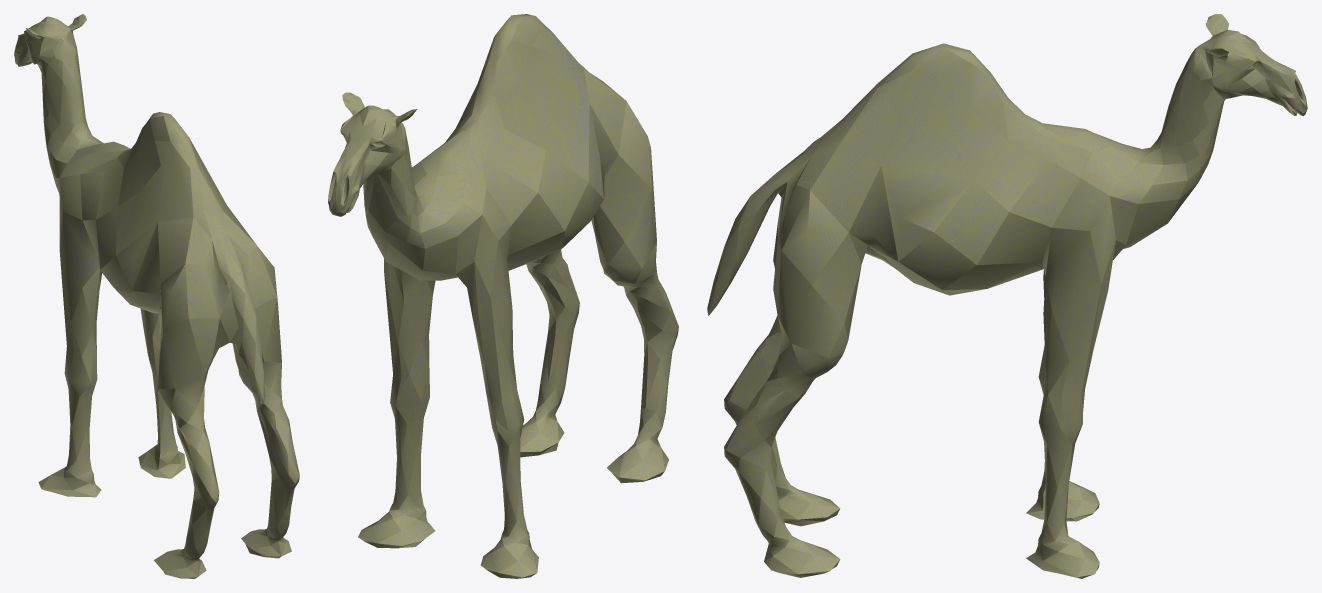
File: camel.dae
The picture shows the model from 3 angles, left to right: view 1: azimuth 30°, elevation 25°; view 2: azimuth 150°, elevation 25°; view 3: azimuth 270°, elevation 25°; orthographic projection. The views are drawn at different scales.
Parts seen in each view (by area): view 1: group_0; view 2: group_0; view 3: group_0.
Part boxes in pixels (x1,y1,x2,y2): group_0: [14, 14, 299, 578]; group_0: [328, 14, 678, 578]; group_0: [707, 14, 1307, 578].
Size of the model in its own units: 39.51 by 116 by 110.
